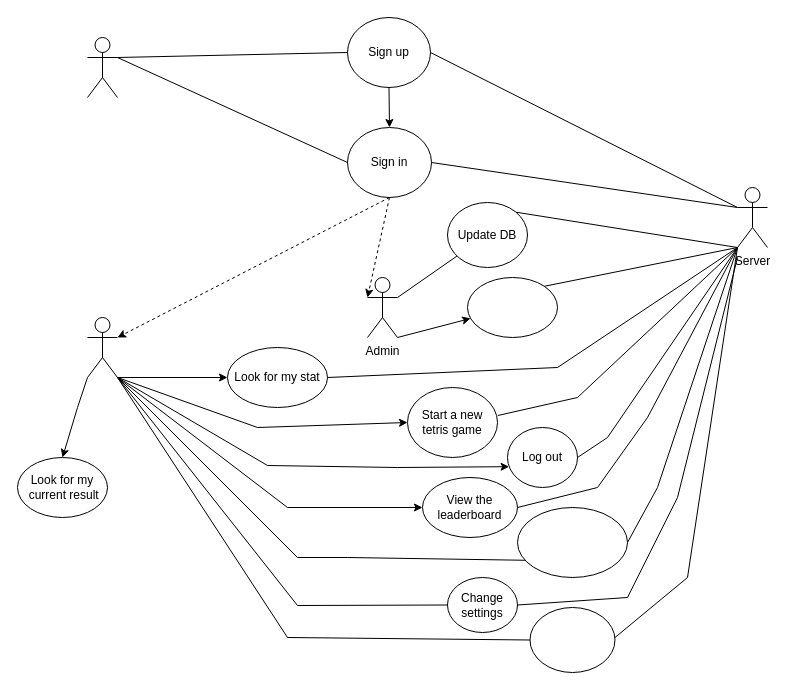
Some shapes in this 787 by 690 pixel diagram are drawn without their labels. The centre of each missing label's shape, as x and y in pixels:
"Change my nickname" goes at (572,639).
"Guest" goes at (102,67).
"L ook for all stat" goes at (512,307).
"Select the game mode" goes at (572,542).
"User" goes at (102,347).
